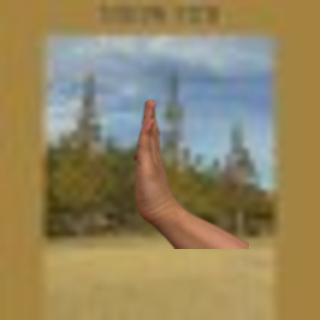RIGHT: (126, 94, 180, 224)
